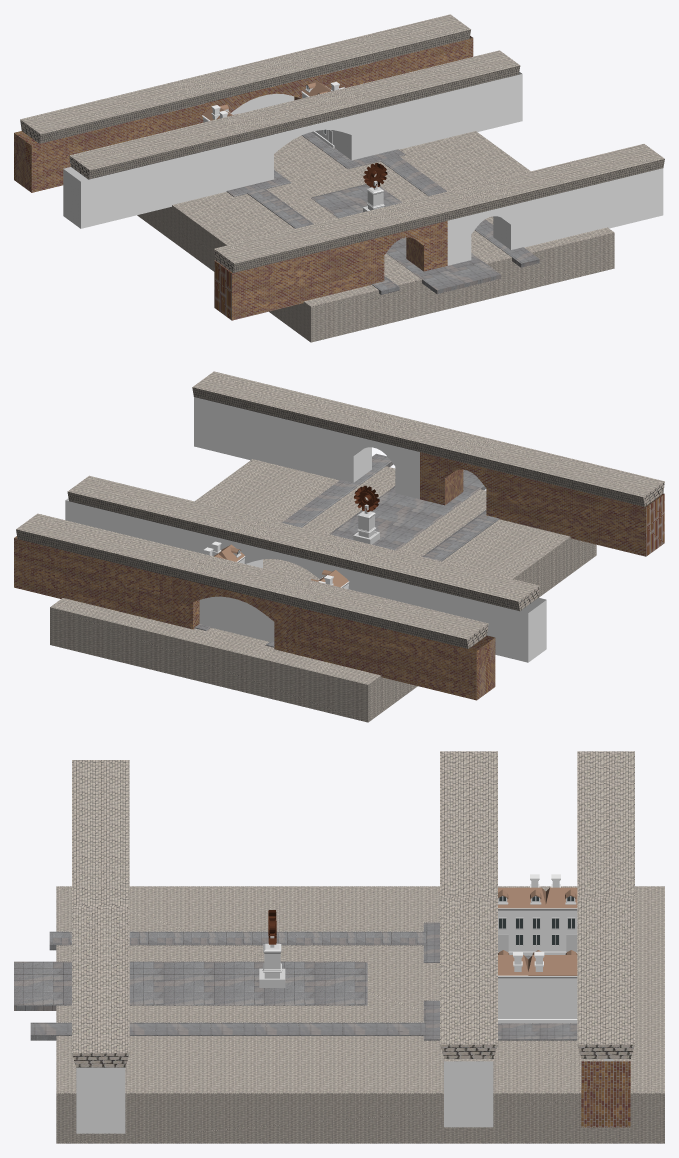
Rendered from Level0-WIP.glb.
3 views of the same model, one above another, from view 1: azimuth 30°, elevation 25°; view 2: azimuth 150°, elevation 25°; view 3: azimuth 270°, elevation 25° (orthographic). The views are drawn at different scales.
Visible parts, largest first — view 1: CSGBox3D32, wall0-noimp, wall1bake_left.001, wall1_left-noimp, wall0Bake.001, wall0_left.upper.003, wall0_left.upper.004, wall1_left.upper.001, wall1_left.upper, wall0_left.upper.001, wall0_left.upper.002, CSGBox3D172 (+7 smaller); view 2: CSGBox3D32, wall0Bake.001, wall1bake_left.001, wall1_left-noimp, wall0-noimp, wall1_left.upper.001, wall0_left.upper.004, wall0_left.upper.003, wall0_left.upper.002, wall0_left.upper.001, wall1_left.upper, CSGBox3D172 (+6 smaller); view 3: CSGBox3D32, CSGBox3D172, wall0_left.upper.002, wall1_left.upper, wall0_left.upper.001, wall0_left.upper.004, wall1_left.upper.001, wall0_left.upper.003, CSGBox3D142, CSGBox3D152, Cube.001-noimp, wall0Bake.001 (+8 smaller).
Part boxes in pixels (x1,y1,x2,y2): CSGBox3D32: [137, 131, 614, 342]; wall0-noimp: [63, 72, 522, 228]; wall1bake_left.001: [214, 221, 447, 320]; wall1_left-noimp: [447, 168, 663, 265]; wall0Bake.001: [14, 36, 473, 192]; wall0_left.upper.003: [69, 102, 305, 179]; wall0_left.upper.004: [20, 67, 255, 143]; wall1_left.upper.001: [214, 196, 449, 272]; wall1_left.upper: [428, 144, 664, 220]; wall0_left.upper.001: [235, 14, 470, 91]; wall0_left.upper.002: [284, 50, 520, 127]; CSGBox3D172: [311, 184, 501, 294]; CSGBox3D32: [50, 459, 596, 722]; wall0Bake.001: [14, 536, 495, 700]; wall1bake_left.001: [420, 452, 664, 556]; wall1_left-noimp: [194, 397, 419, 499]; wall0-noimp: [65, 498, 546, 662]; wall1_left.upper.001: [417, 426, 664, 506]; wall0_left.upper.004: [240, 568, 488, 648]; wall0_left.upper.003: [292, 531, 539, 611]; wall0_left.upper.002: [67, 475, 314, 555]; wall0_left.upper.001: [16, 513, 261, 593]; wall1_left.upper: [192, 371, 439, 451]; CSGBox3D172: [329, 469, 486, 550]; CSGBox3D32: [56, 886, 664, 1143]; CSGBox3D172: [14, 961, 367, 1010]; wall0_left.upper.002: [440, 897, 497, 1058]; wall1_left.upper: [72, 906, 129, 1067]; wall0_left.upper.001: [577, 897, 634, 1058]; wall0_left.upper.004: [577, 751, 634, 898]; wall1_left.upper.001: [72, 760, 129, 906]; wall0_left.upper.003: [440, 751, 497, 897]; CSGBox3D142: [30, 1022, 425, 1040]; CSGBox3D152: [49, 931, 426, 950]; Cube.001-noimp: [526, 950, 577, 1023]; wall0Bake.001: [581, 1061, 630, 1127].
Bounding box in the file's own units: 80.42 × 15.67 × 72.03.
20 materials, 5 textured.
